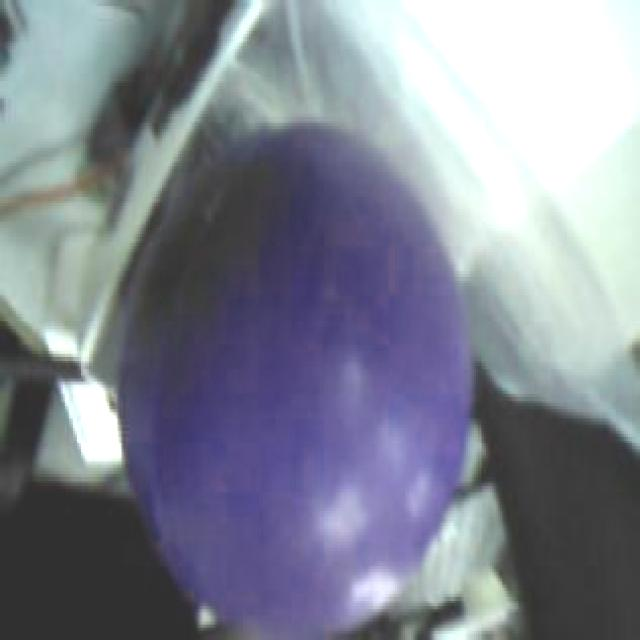BallPurple: (118, 124, 474, 640)
